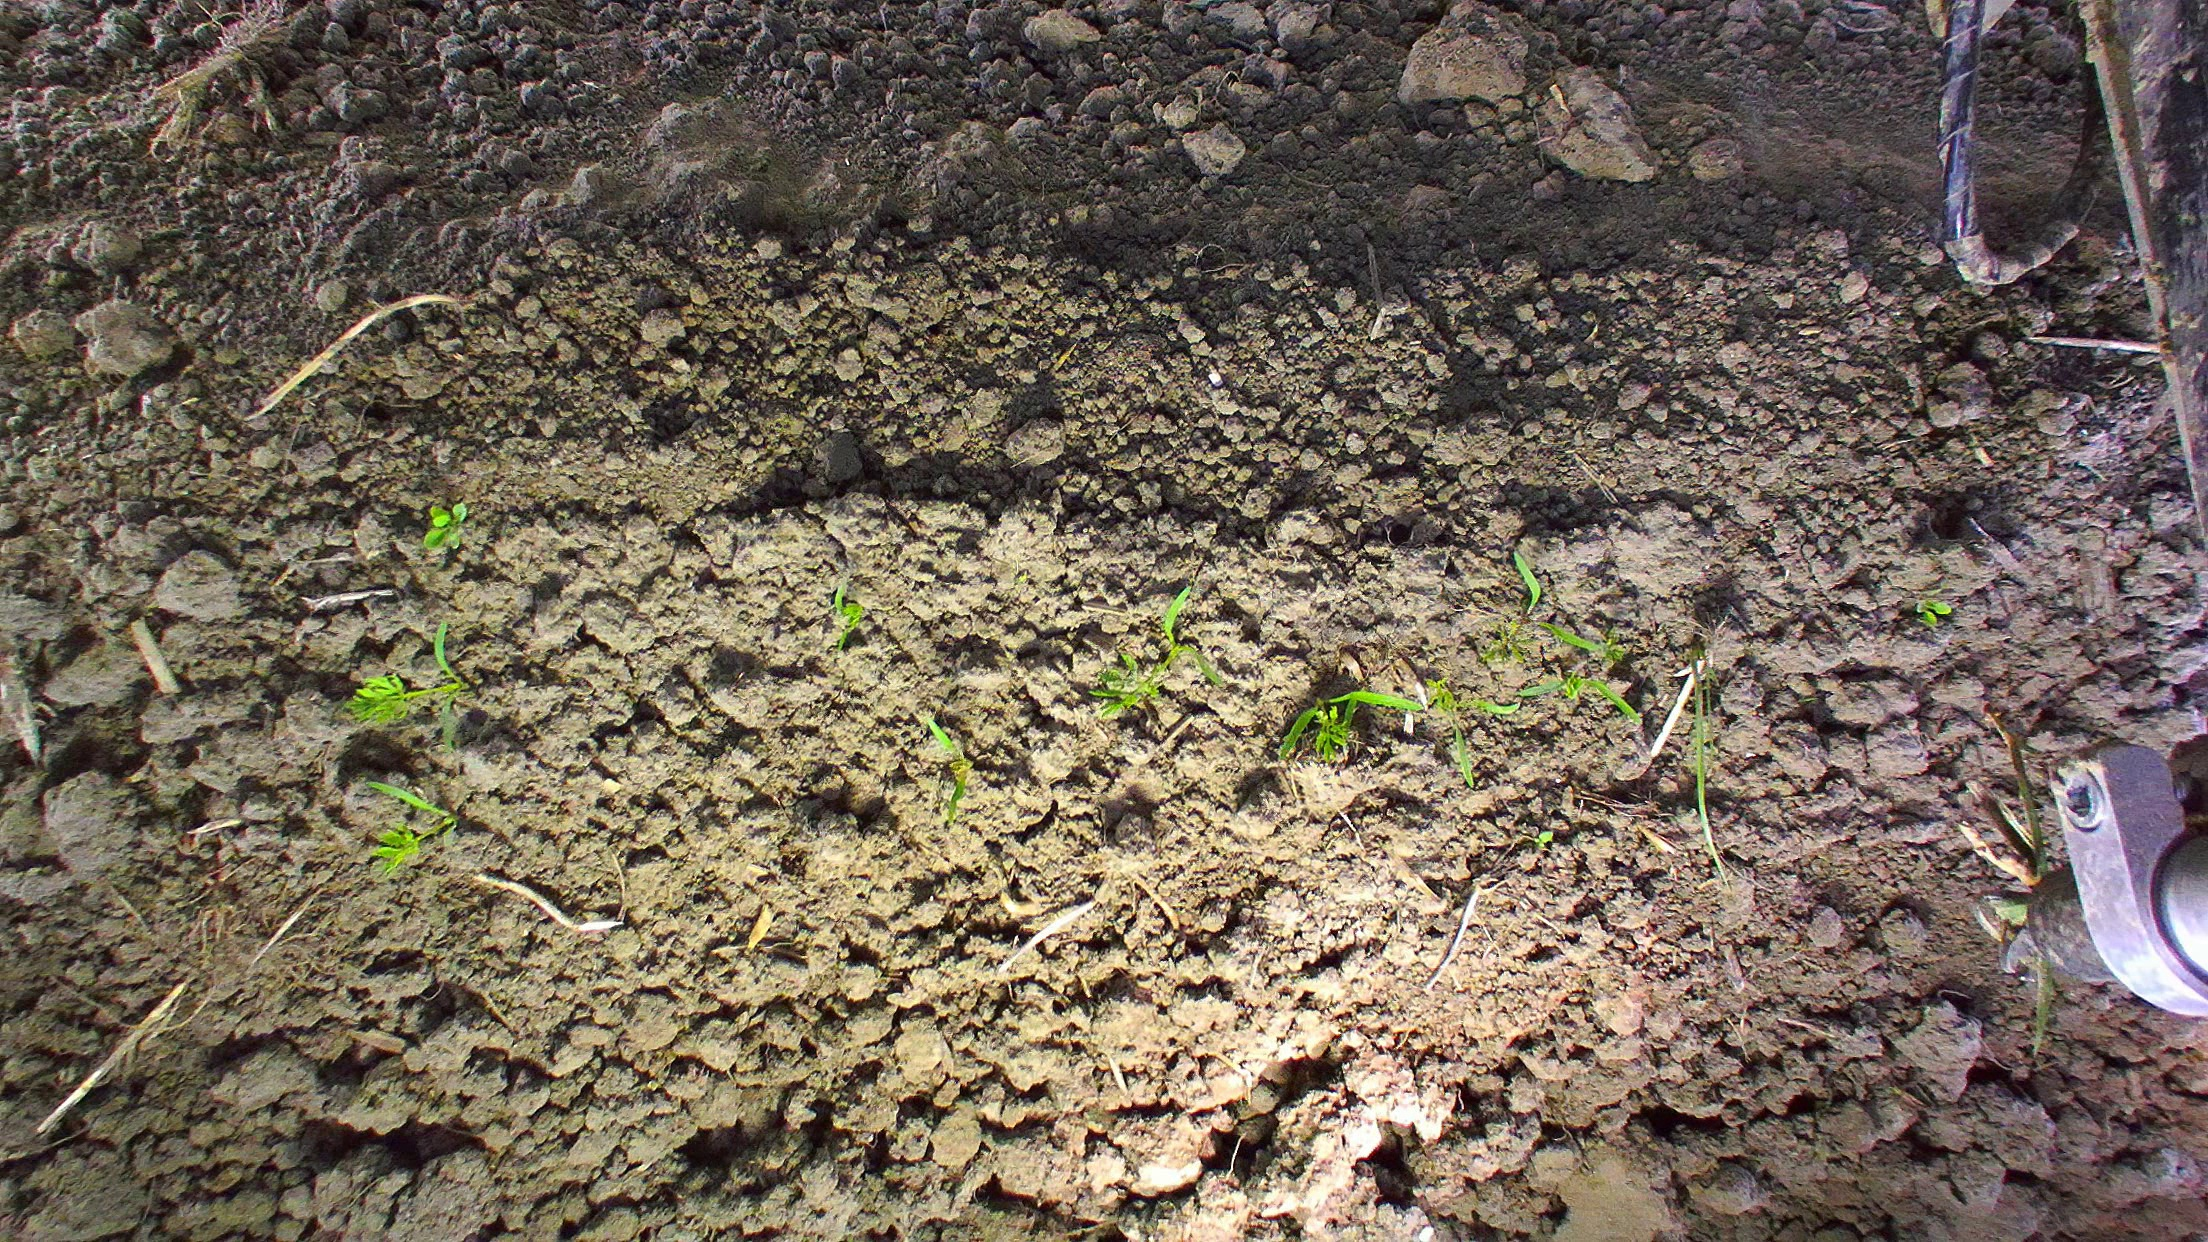Crop: (1084, 582, 1224, 720), (337, 619, 475, 757), (1424, 669, 1641, 725), (1274, 685, 1425, 764), (361, 776, 463, 845), (1538, 619, 1626, 666), (369, 817, 431, 878), (830, 585, 867, 654), (1482, 617, 1532, 663), (1450, 728, 1476, 792), (922, 716, 957, 754), (943, 776, 968, 826)
Weed: (416, 500, 479, 560), (1909, 597, 1955, 629)
